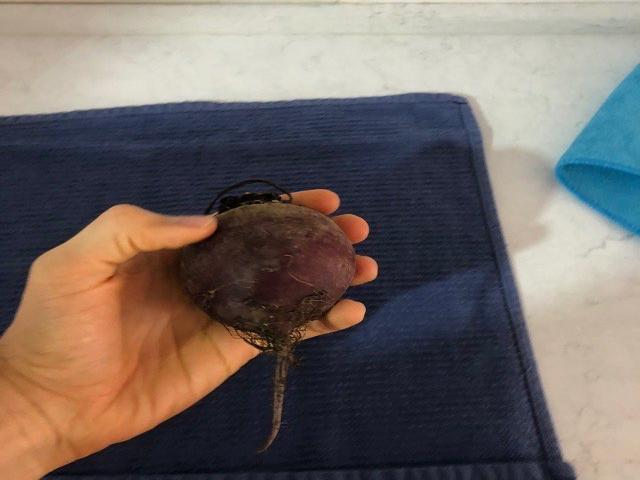beet: (180, 180, 356, 454)
